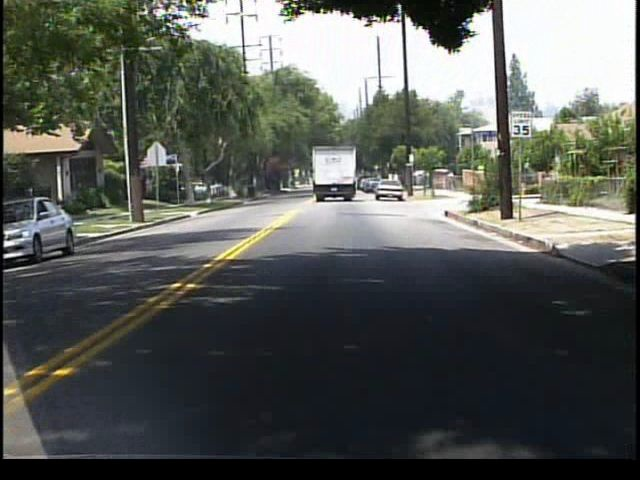person: (445, 168, 456, 191)
